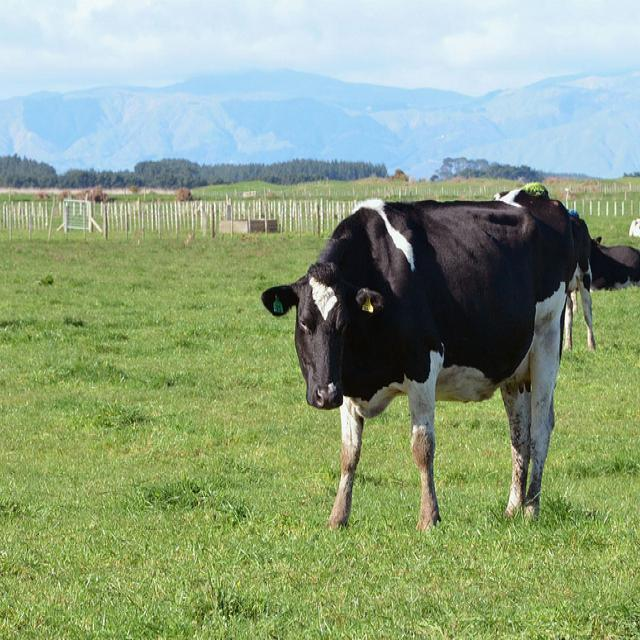cow: (256, 191, 579, 525), (562, 205, 595, 350), (588, 233, 639, 290), (492, 190, 532, 197)
